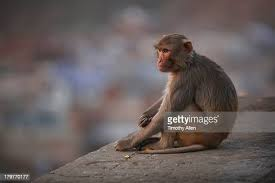monkey: (106, 35, 264, 161)
